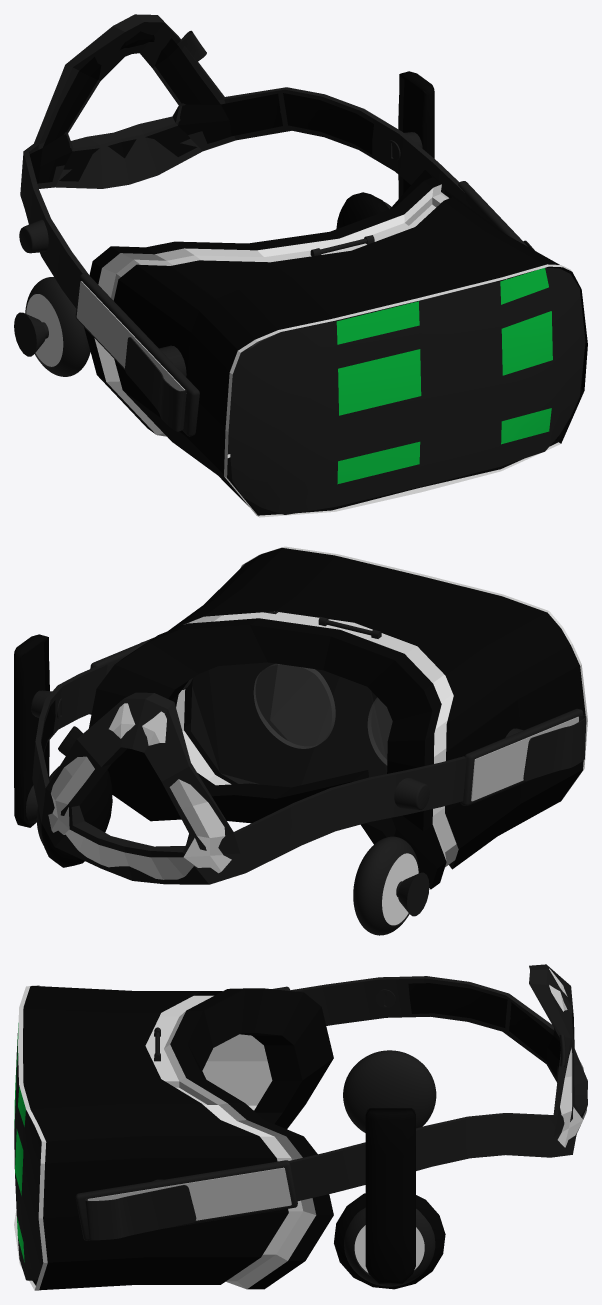
Rendered from ver.fbx.
3 renders of one model, top to bottom at view 1: azimuth 30°, elevation 25°; view 2: azimuth 150°, elevation 25°; view 3: azimuth 270°, elevation 25°, orthographic. The views are drawn at different scales.
Parts seen in each view (by area): view 1: Plane004; view 2: Plane004; view 3: Plane004.
Boxes of the visible parts, bbox=[...] form: Plane004: bbox=[14, 14, 587, 517]; Plane004: bbox=[14, 546, 587, 935]; Plane004: bbox=[14, 964, 587, 1290].
Size of the model in its own units: 8.24 by 5.25 by 10.59.
